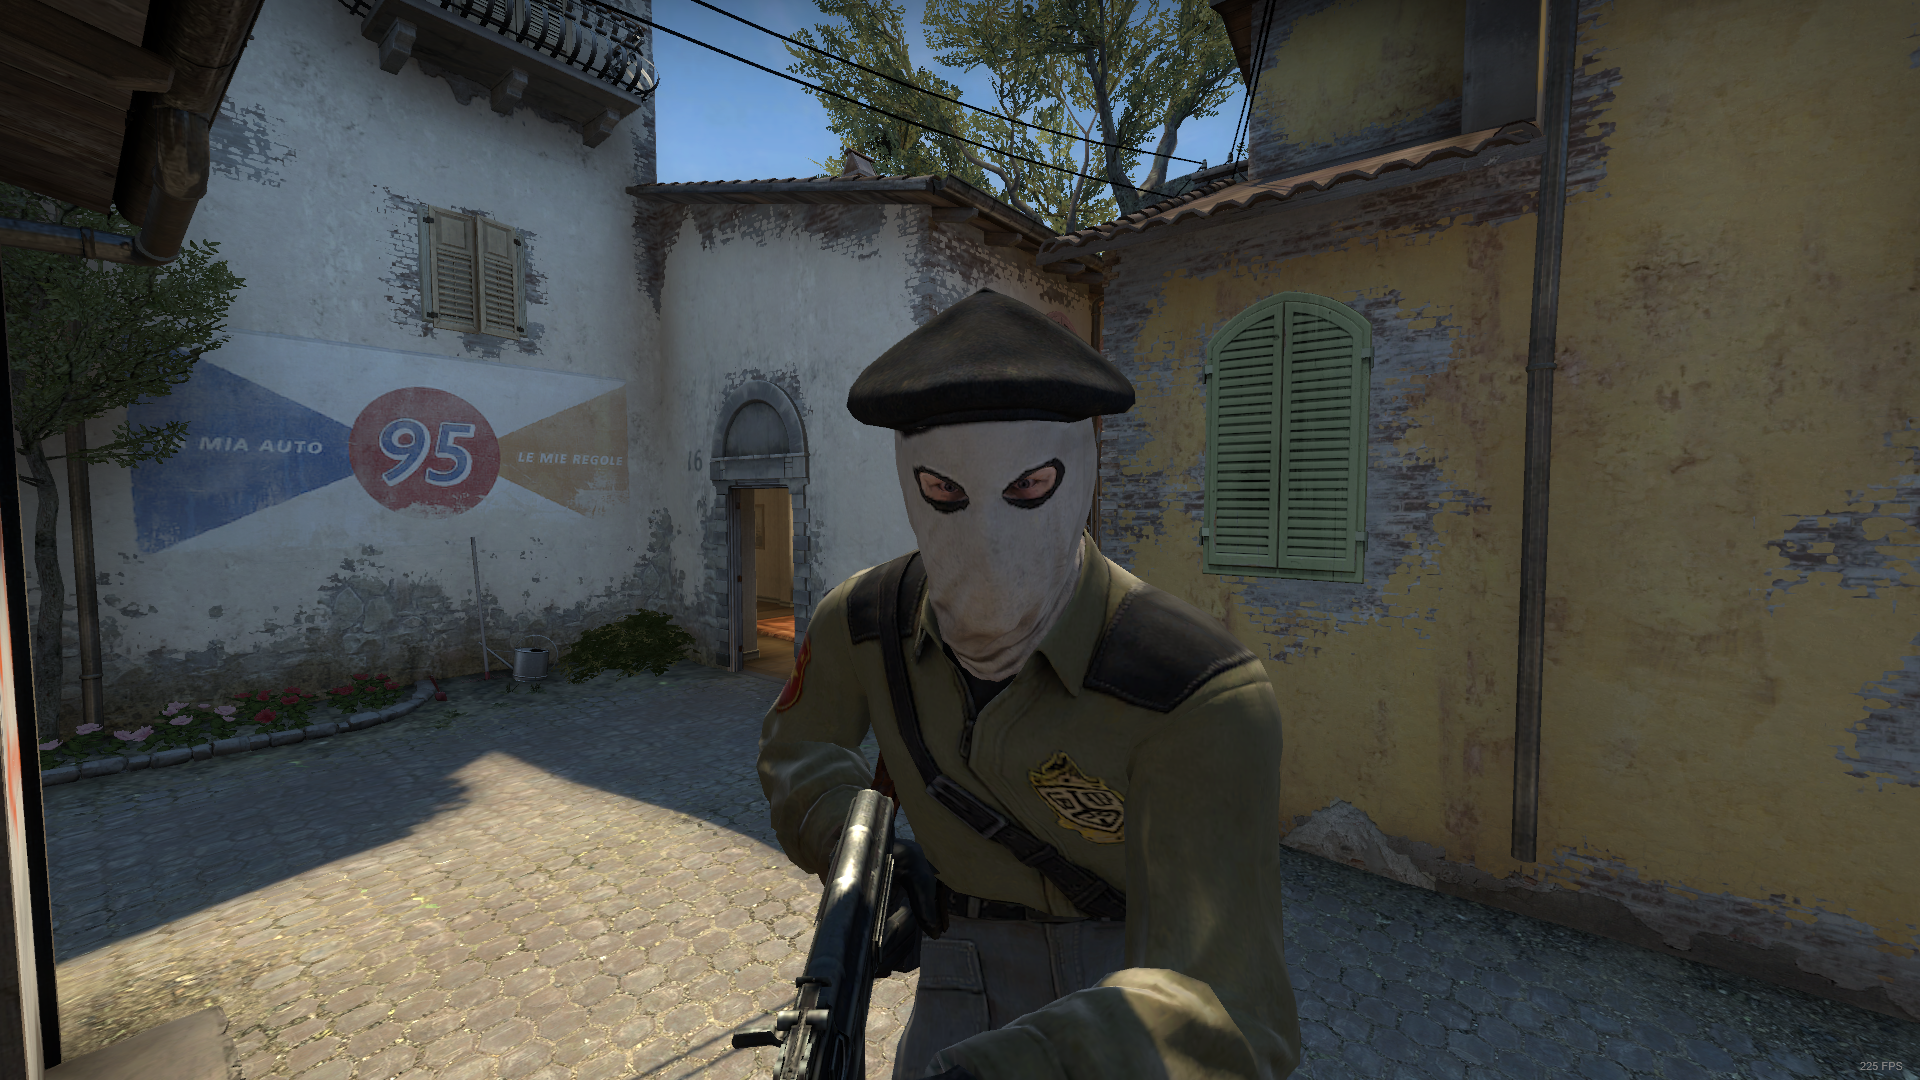t: (761, 287, 1300, 1080)
